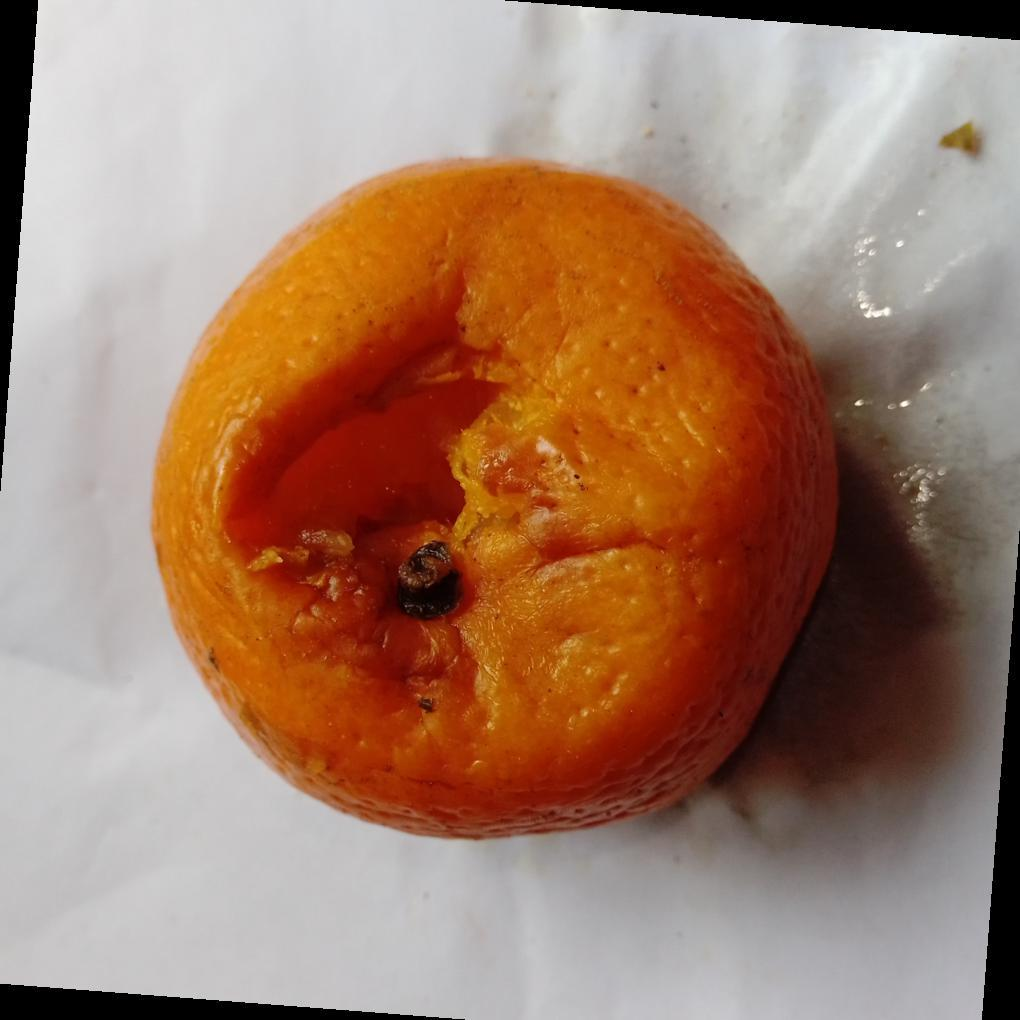FreshOrange: (149, 159, 840, 845)
